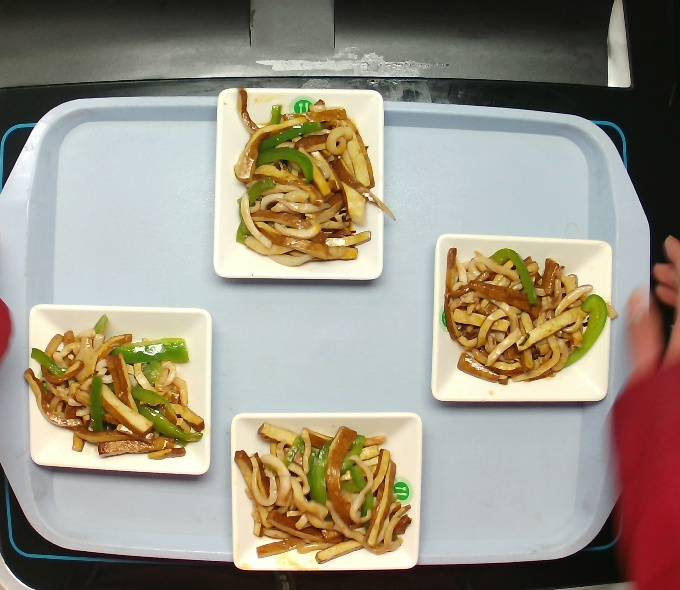wcq-XiangGanYouYu: (221, 84, 386, 273), (228, 410, 412, 574), (29, 310, 205, 474), (436, 241, 601, 384)
